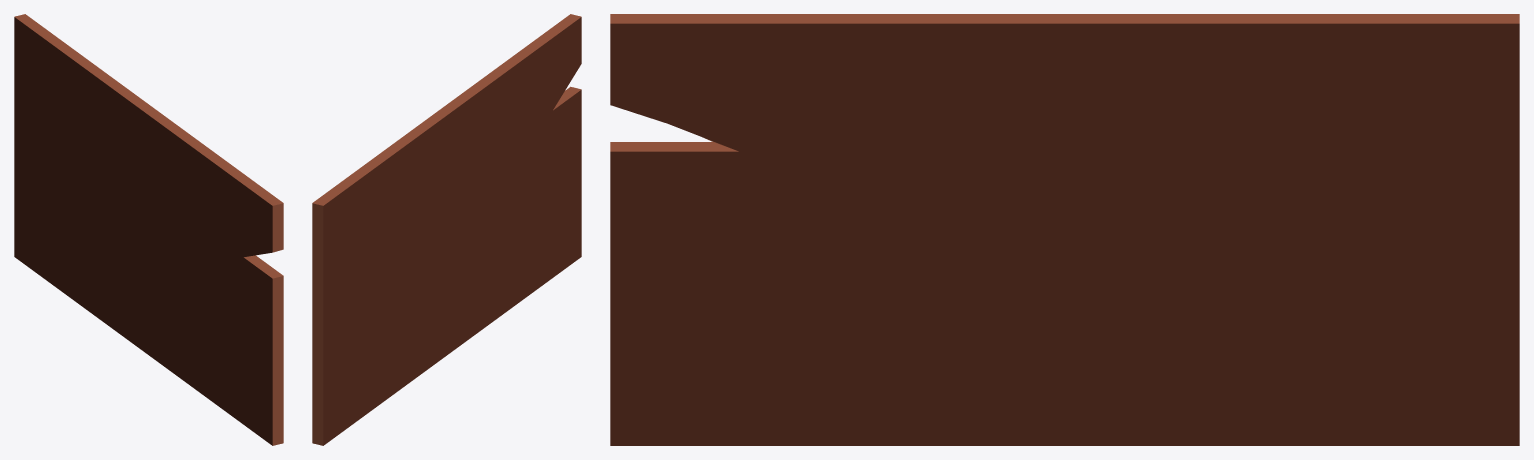
The model's file is SM_Barriers_13.fbx.
3 renders of one model, left to right at view 1: azimuth 30°, elevation 25°; view 2: azimuth 150°, elevation 25°; view 3: azimuth 270°, elevation 25°, orthographic. The views are drawn at different scales.
Visible parts, largest first — view 1: SM_Barriers_13; view 2: SM_Barriers_13; view 3: SM_Barriers_13.
Part boxes in pixels (bbox=[...]): SM_Barriers_13: bbox=[14, 14, 283, 445]; SM_Barriers_13: bbox=[312, 14, 581, 445]; SM_Barriers_13: bbox=[610, 14, 1519, 445].
Bounding box in the file's own units: 3 × 61.49 × 120.
